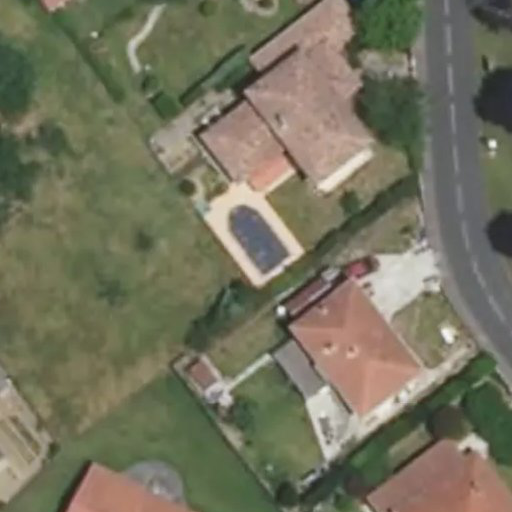pool: (221, 226, 290, 257)
